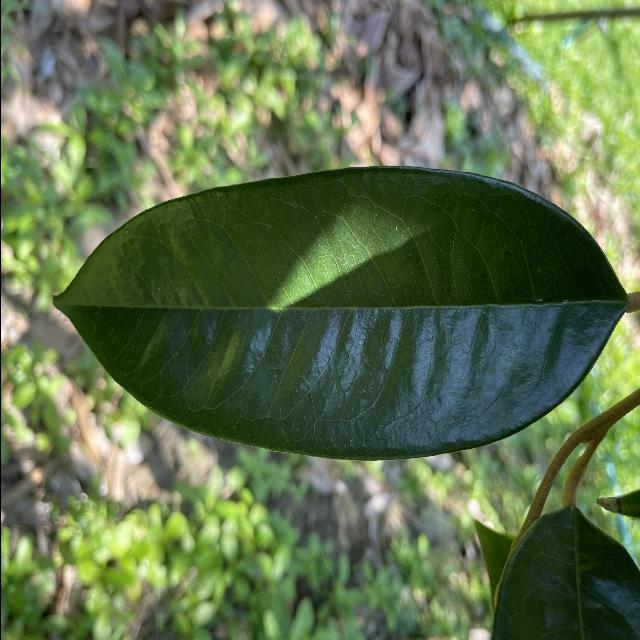No Disease: (40, 159, 637, 465)
